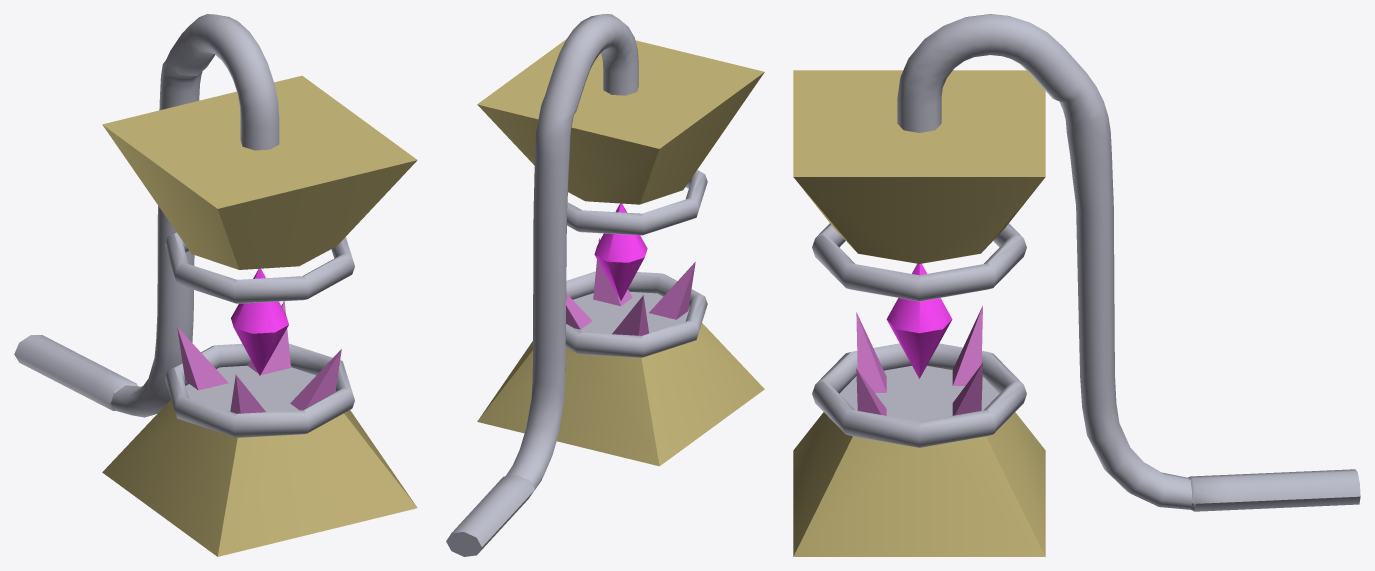
Rendered from riakuter.fbx.
3 renders of one model, left to right at view 1: azimuth 30°, elevation 25°; view 2: azimuth 150°, elevation 25°; view 3: azimuth 270°, elevation 25°, orthographic. The views are drawn at different scales.
Parts seen in each view (by area): view 1: riactor; view 2: riactor; view 3: riactor.
Boxes of the visible parts, x1,y1,x2,y2 form: riactor: [14, 14, 417, 556]; riactor: [446, 14, 764, 556]; riactor: [793, 14, 1360, 556].
Size of the model in its own units: 200 by 439 by 450.
